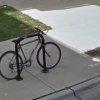Bicycle: (1, 25, 62, 80)
